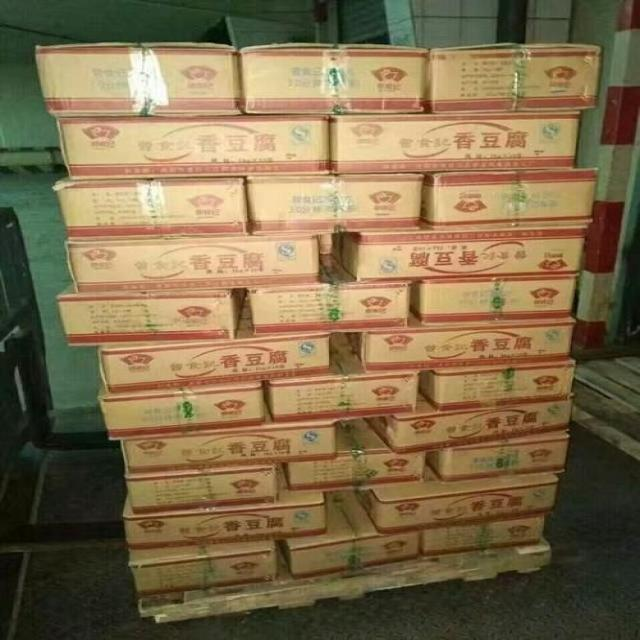box: (97, 301, 330, 392), (58, 117, 329, 179), (124, 467, 328, 547), (330, 110, 579, 175), (38, 41, 242, 115), (351, 463, 559, 533), (68, 235, 319, 292), (262, 334, 419, 424), (238, 43, 426, 118), (333, 225, 585, 280), (283, 486, 425, 581), (366, 391, 570, 456), (250, 254, 410, 336), (55, 278, 244, 346), (428, 43, 602, 114), (425, 160, 598, 230), (344, 319, 573, 371), (55, 178, 251, 237), (246, 174, 428, 236), (122, 419, 338, 470), (97, 379, 264, 442), (285, 419, 429, 488), (127, 536, 276, 598), (410, 271, 577, 324), (420, 360, 573, 415), (123, 463, 280, 516), (429, 432, 567, 481), (421, 515, 547, 557), (328, 158, 577, 178)
